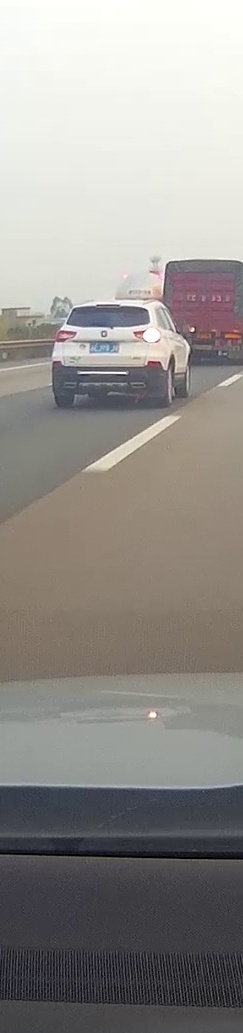L_light: (55, 329, 77, 343)
R_light: (132, 327, 162, 343)
T_light: (96, 304, 120, 308)
day-right: (51, 300, 166, 408)
